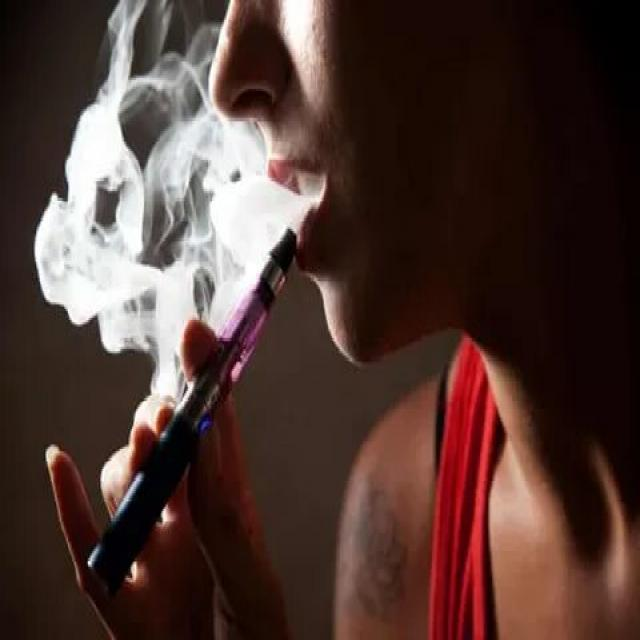smoke: (85, 216, 300, 604)
